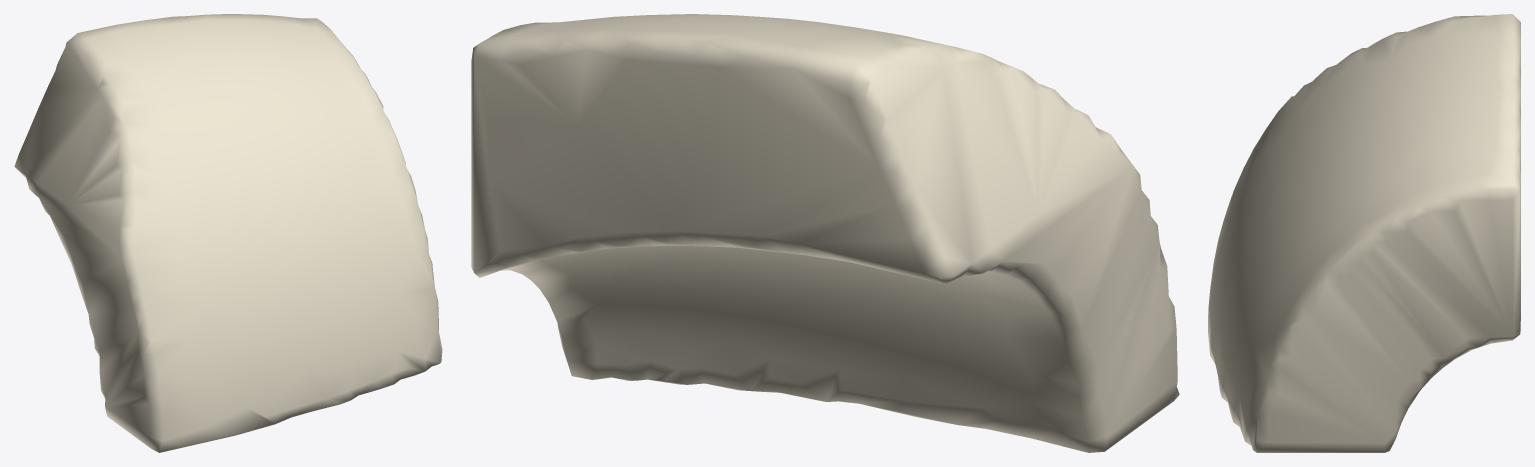
File: parietal_l.glb
The picture shows the model from 3 angles, left to right: view 1: azimuth 30°, elevation 25°; view 2: azimuth 150°, elevation 25°; view 3: azimuth 270°, elevation 25°; orthographic projection. The views are drawn at different scales.
Parts seen in each view (by area): view 1: geometry_0; view 2: geometry_0; view 3: geometry_0.
Boxes of the visible parts, box(x1,y1,x2,y2) form: geometry_0: box(14, 14, 442, 452); geometry_0: box(471, 14, 1179, 452); geometry_0: box(1208, 14, 1520, 452).
Size of the model in its own units: 0.1301 by 0.1199 by 0.1075.
